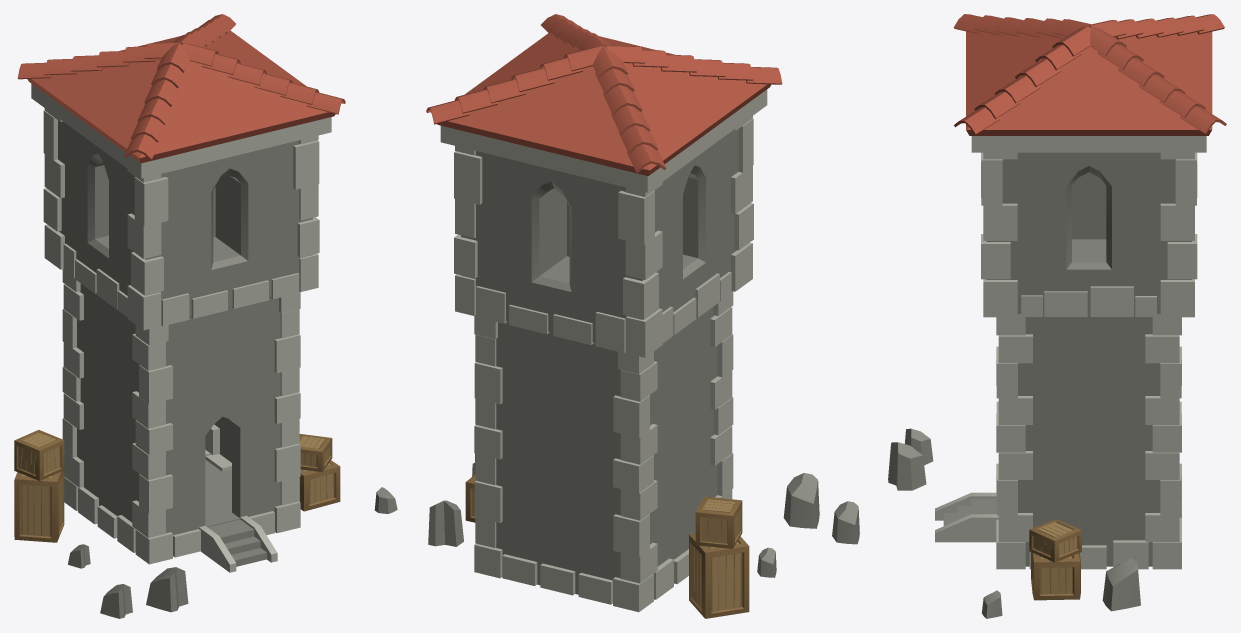
The model's file is WatchTower_SecondAge_Level1.glb.
3 renders of one model, left to right at view 1: azimuth 30°, elevation 25°; view 2: azimuth 150°, elevation 25°; view 3: azimuth 270°, elevation 25°, orthographic. The views are drawn at different scales.
Visible parts, largest first — view 1: WatchTower_SecondAge_Level1; view 2: WatchTower_SecondAge_Level1; view 3: WatchTower_SecondAge_Level1.
Part boxes in pixels (x1,y1,x2,y2): WatchTower_SecondAge_Level1: [14, 14, 397, 618]; WatchTower_SecondAge_Level1: [426, 14, 859, 618]; WatchTower_SecondAge_Level1: [888, 14, 1226, 618].
Bounding box in the file's own units: 0.857 × 1.2 × 0.7226.
